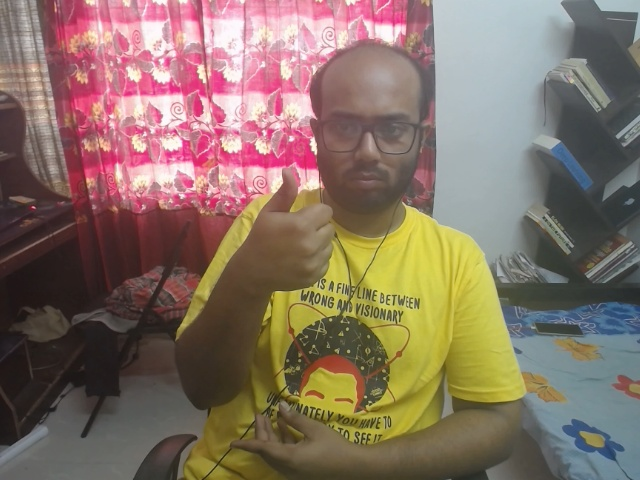six: (230, 160, 356, 300)
